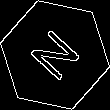N_SE: (24, 23, 86, 87)
